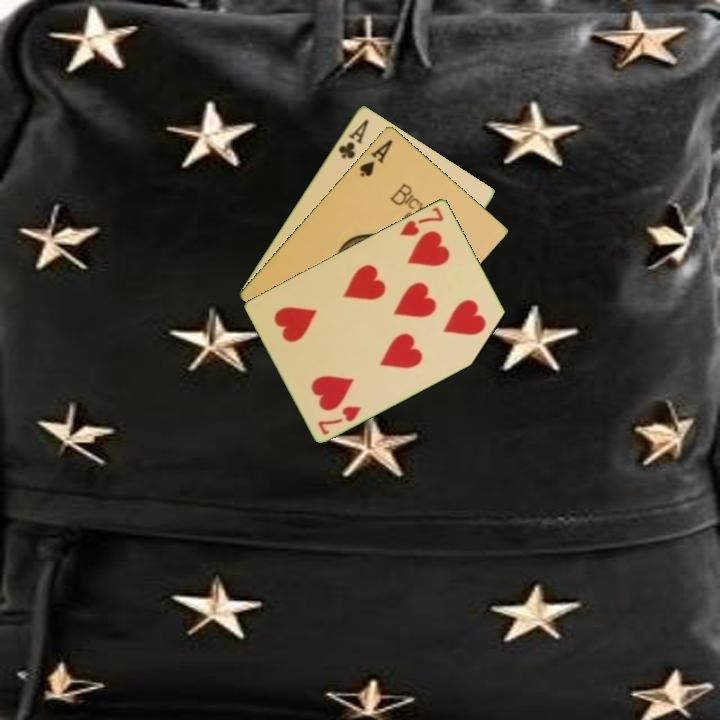7h: (396, 203, 447, 239), (314, 402, 364, 438)
Ac: (335, 115, 372, 162)
As: (356, 136, 395, 180)
